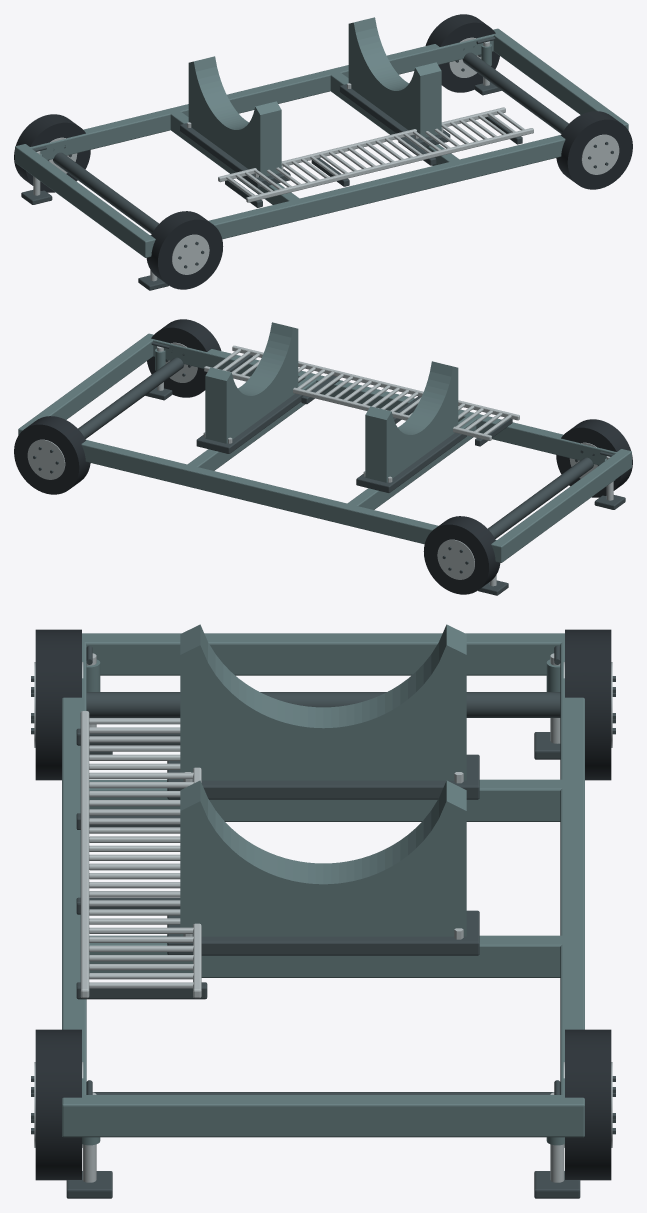
Rendered from landing_skid.glb.
The picture shows the model from 3 angles, top to bottom: view 1: azimuth 30°, elevation 25°; view 2: azimuth 150°, elevation 25°; view 3: azimuth 270°, elevation 25°; orthographic projection. The views are drawn at different scales.
Parts seen in each view (by area): view 1: landing_skid; view 2: landing_skid; view 3: landing_skid.
Part boxes in pixels (box(x1,y1,x2,y2)): landing_skid: box(14, 14, 632, 290); landing_skid: box(14, 319, 632, 595); landing_skid: box(31, 624, 615, 1198).
Size of the model in its own units: 7.26 by 1.81 by 3.8.
